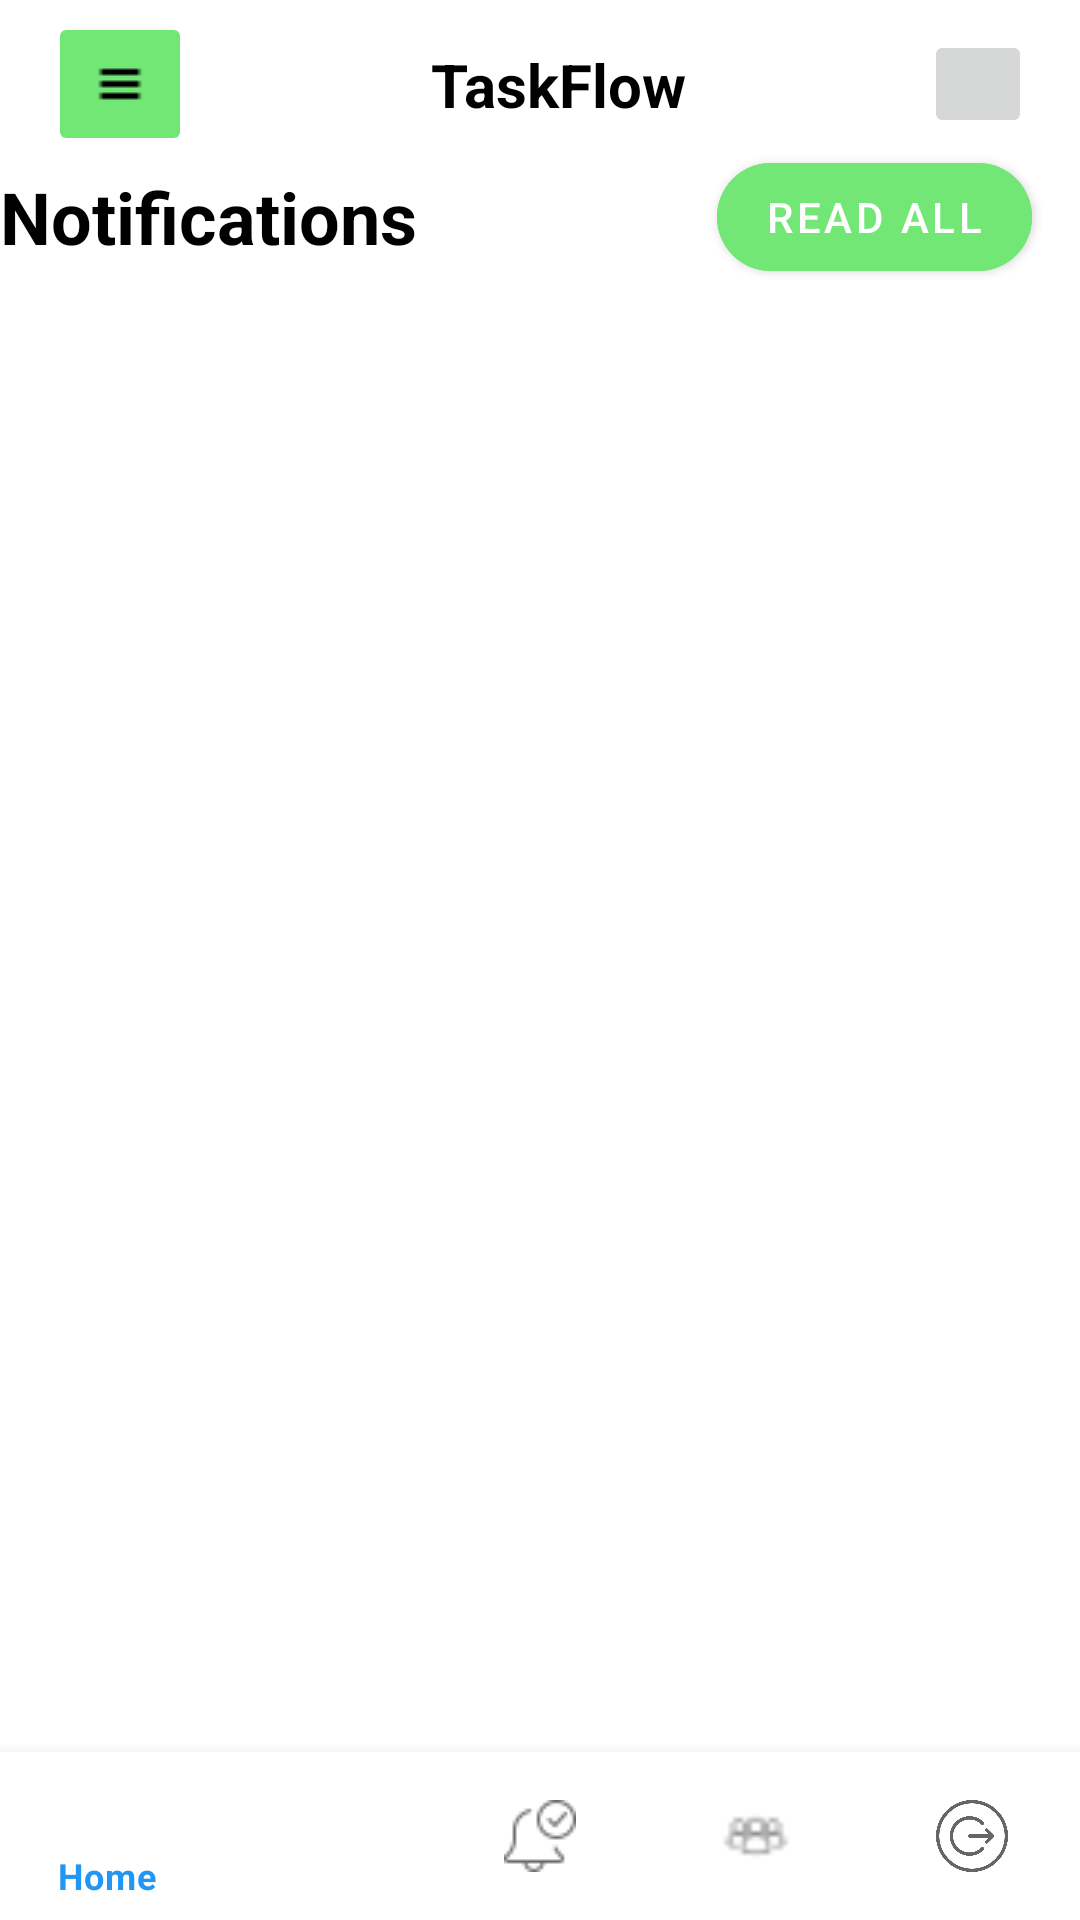

Icon click points for this 1080px×1920px phone screenshot, format point (x, y):
Menu: point (120, 84)
